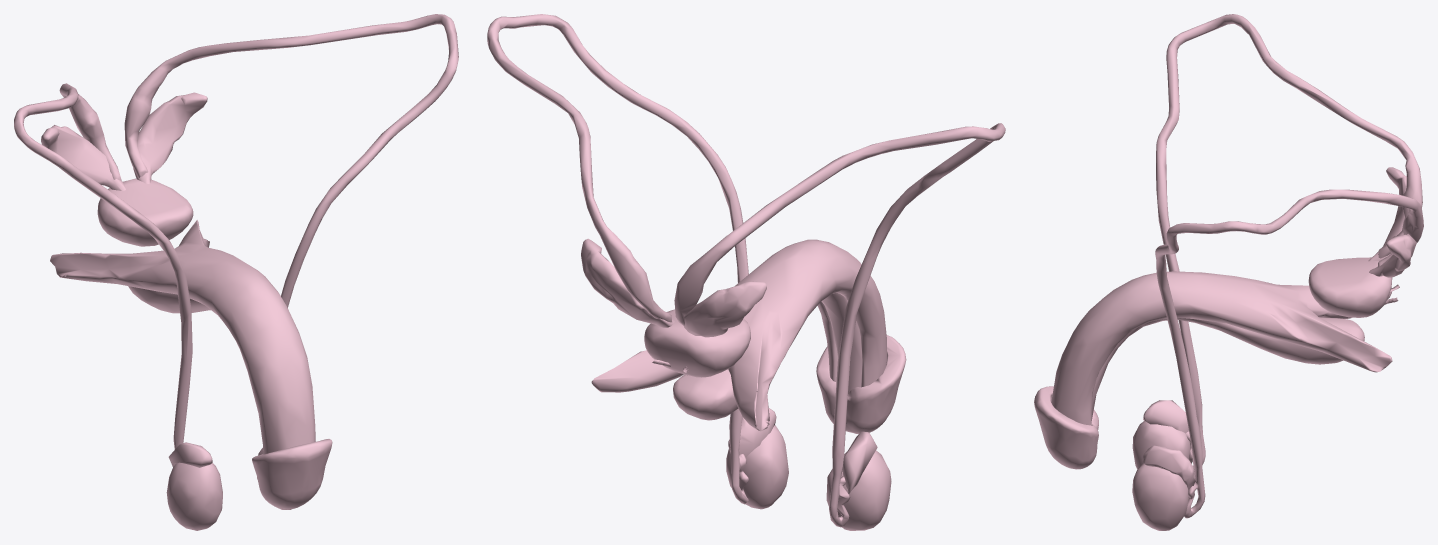
Rendered from riproduttivo.glb.
3 views of the same model, side by side, from view 1: azimuth 30°, elevation 25°; view 2: azimuth 150°, elevation 25°; view 3: azimuth 270°, elevation 25° (orthographic). The views are drawn at different scales.
Parts seen in each view (by area): view 1: FJ3132, FJ3135, FJ3140, FJ3139, FJ3134, FJ3142, FJ3137, FJ3143, FJ3133, FJ3141; view 2: FJ3132, FJ3140, FJ3135, FJ3139, FJ3133, FJ3134, FJ3138, FJ3143, FJ3142, FJ3137, FJ3141, FJ3136; view 3: FJ3132, FJ3140, FJ3135, FJ3139, FJ3134, FJ3138, FJ3133, FJ3142, FJ3136, FJ3137, FJ3141, FJ3143.
Boxes of the visible parts, <box> form: FJ3132: <box>50,220,315,454</box>; FJ3135: <box>124,14,458,307</box>; FJ3140: <box>14,83,192,449</box>; FJ3139: <box>97,178,193,246</box>; FJ3134: <box>252,439,332,509</box>; FJ3142: <box>166,462,222,530</box>; FJ3137: <box>133,92,207,183</box>; FJ3143: <box>41,125,125,190</box>; FJ3133: <box>128,286,210,313</box>; FJ3141: <box>168,442,212,467</box>; FJ3132: <box>591,239,886,431</box>; FJ3140: <box>674,123,1005,527</box>; FJ3135: <box>487,14,748,504</box>; FJ3139: <box>644,309,750,377</box>; FJ3133: <box>673,293,862,420</box>; FJ3134: <box>816,335,906,434</box>; FJ3138: <box>726,425,788,509</box>; FJ3143: <box>684,281,766,337</box>; FJ3142: <box>826,450,891,530</box>; FJ3137: <box>581,238,674,327</box>; FJ3141: <box>842,431,877,493</box>; FJ3136: <box>728,408,776,457</box>; FJ3132: <box>1051,271,1392,425</box>; FJ3140: <box>1156,14,1422,466</box>; FJ3135: <box>1155,189,1423,518</box>; FJ3139: <box>1308,257,1392,317</box>; FJ3134: <box>1034,386,1098,469</box>; FJ3138: <box>1132,463,1188,530</box>; FJ3133: <box>1091,317,1364,423</box>; FJ3142: <box>1132,421,1190,469</box>; FJ3136: <box>1142,445,1195,499</box>; FJ3137: <box>1369,233,1416,277</box>; FJ3141: <box>1143,400,1188,433</box>; FJ3143: <box>1368,167,1406,261</box>.
Bounding box in the file's own units: 0.1867 × 0.1712 × 0.1483.
